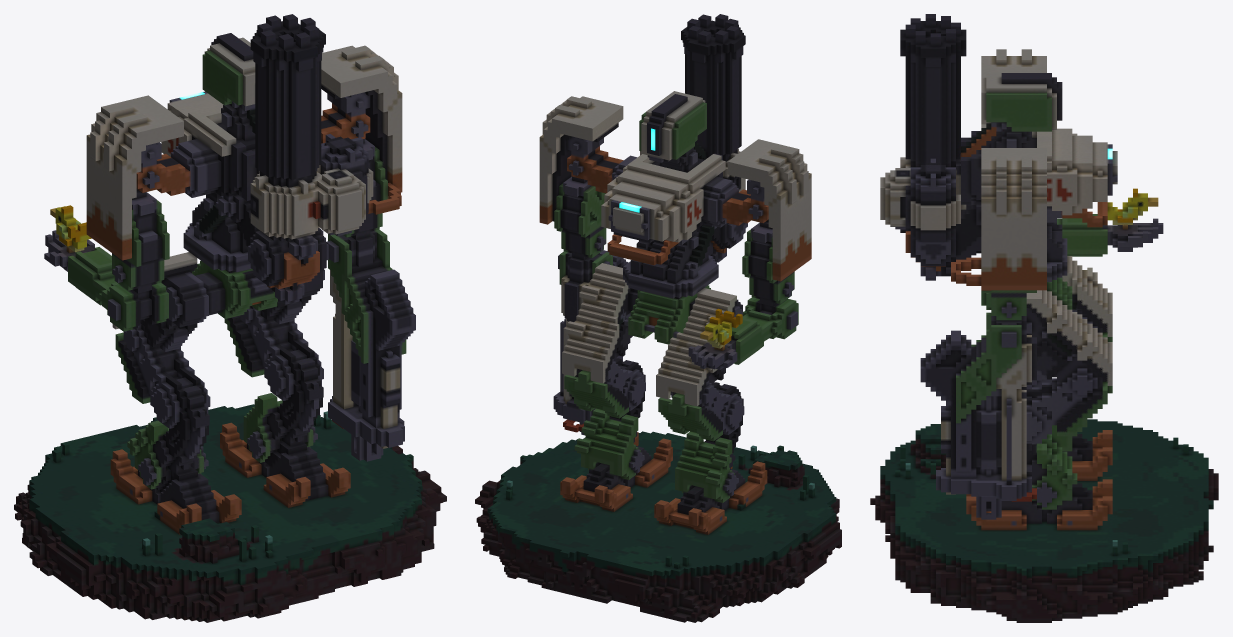
File: bastion_overwatch.glb
3 renders of one model, left to right at view 1: azimuth 30°, elevation 25°; view 2: azimuth 150°, elevation 25°; view 3: azimuth 270°, elevation 25°, orthographic. The views are drawn at different scales.
Visible parts, largest first — view 1: Object_2; view 2: Object_2; view 3: Object_2.
Boxes of the visible parts, bbox=[...] form: Object_2: bbox=[14, 14, 446, 622]; Object_2: bbox=[475, 14, 841, 622]; Object_2: bbox=[870, 14, 1218, 622].
Size of the model in its own units: 1.28 by 1.87 by 1.15.
Materials: 2 (2 with a texture image).
